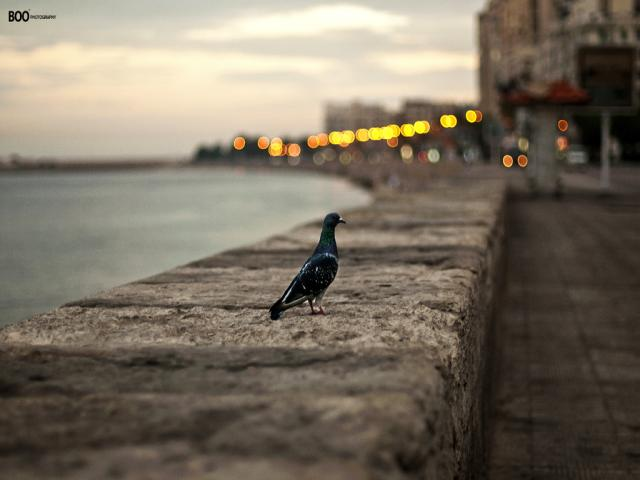Bird: (266, 211, 349, 313)
